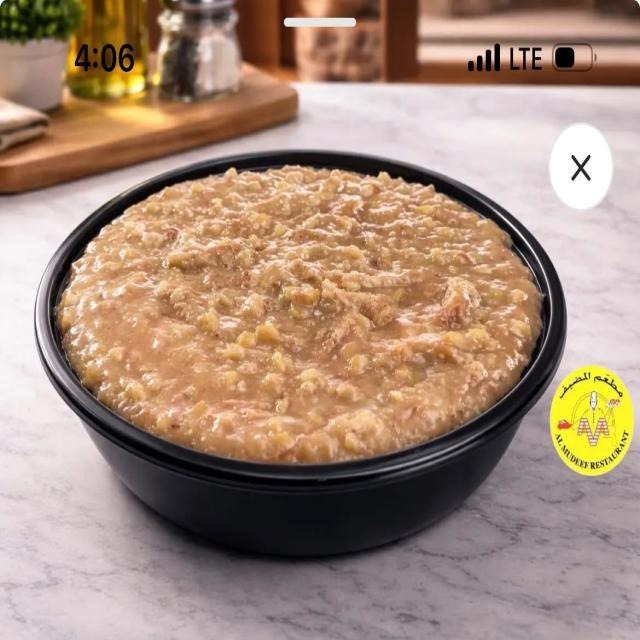Harees: (53, 158, 551, 480)
